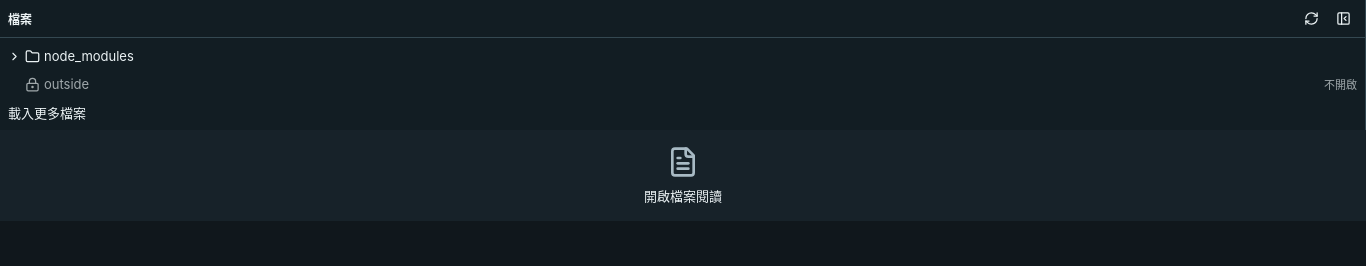
Test: workspace file browser › loads only requested folders, pages explicitly, and hides links
Check: the text "node_modules" is shown, box [44,48,134,64]
Check: the button "outside 不開啟" is disabled, box [4,70,1361,98]
Click the button "載入更多檔案" at (47, 112), box [4,98,1361,126]
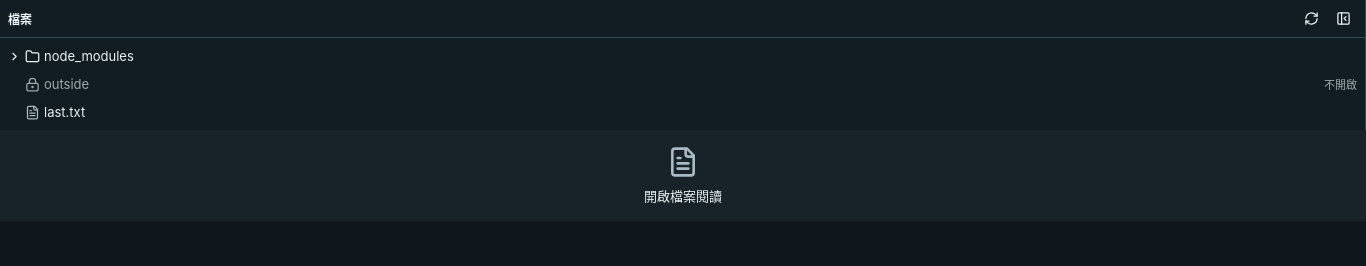
Check: the text "last.txt" is shown, box [44,104,85,120]
Click the button "node_modules" at (89, 56), box [4,42,1361,70]
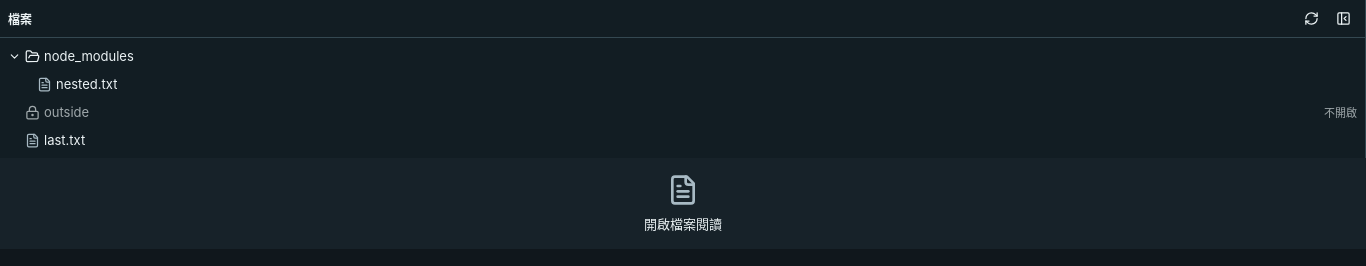
Check: the text "nested.txt" is shown, box [56,76,117,92]
